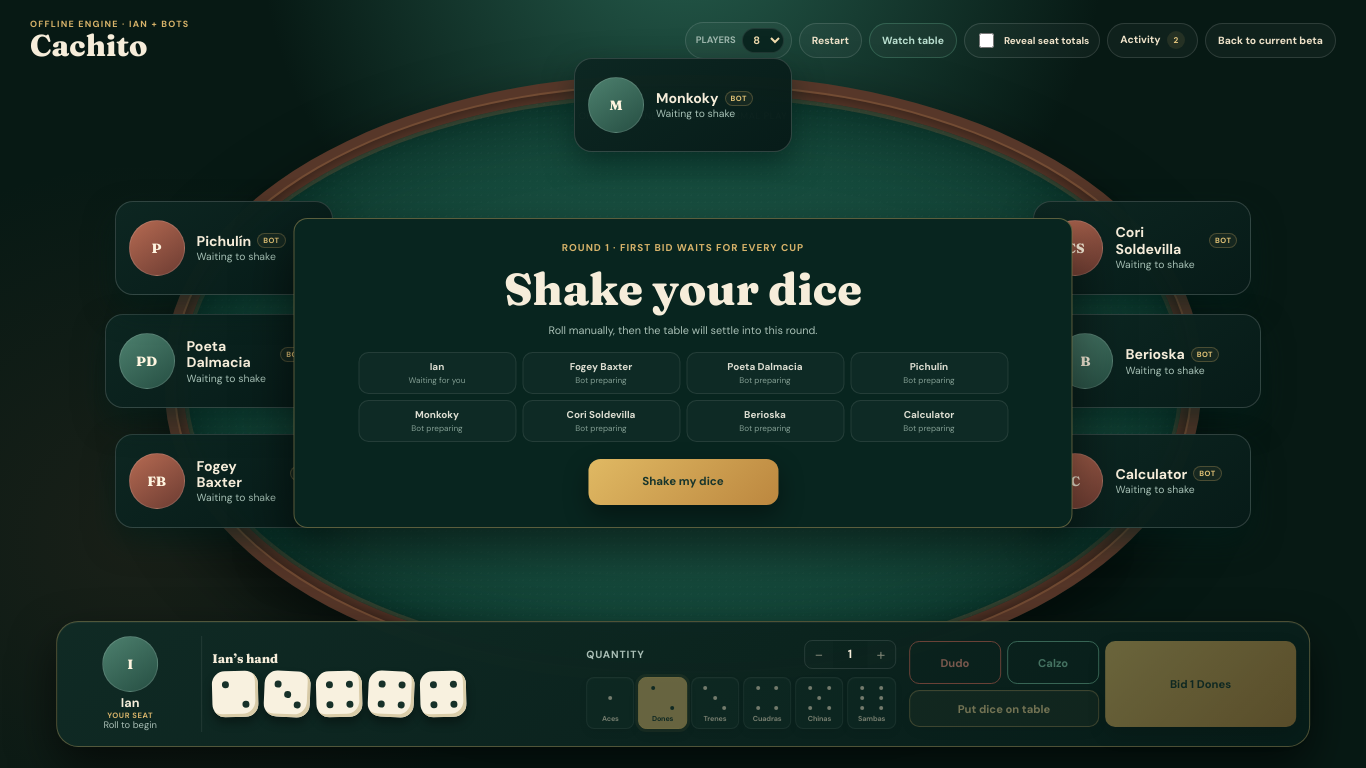
Scenario: TablePrototype › uses the saved username, established bot names, and full player-card information
expect the text "Ian" below "’s hand" is shown: met, box left=121, top=694, right=139, bottom=711
expect the element named "40 dice in play; no dice lost" is shown: met, box left=363, top=318, right=609, bottom=428
Click the checkbox labelled "Reveal seat totals" at (986, 40), box left=979, top=32, right=994, bottom=48
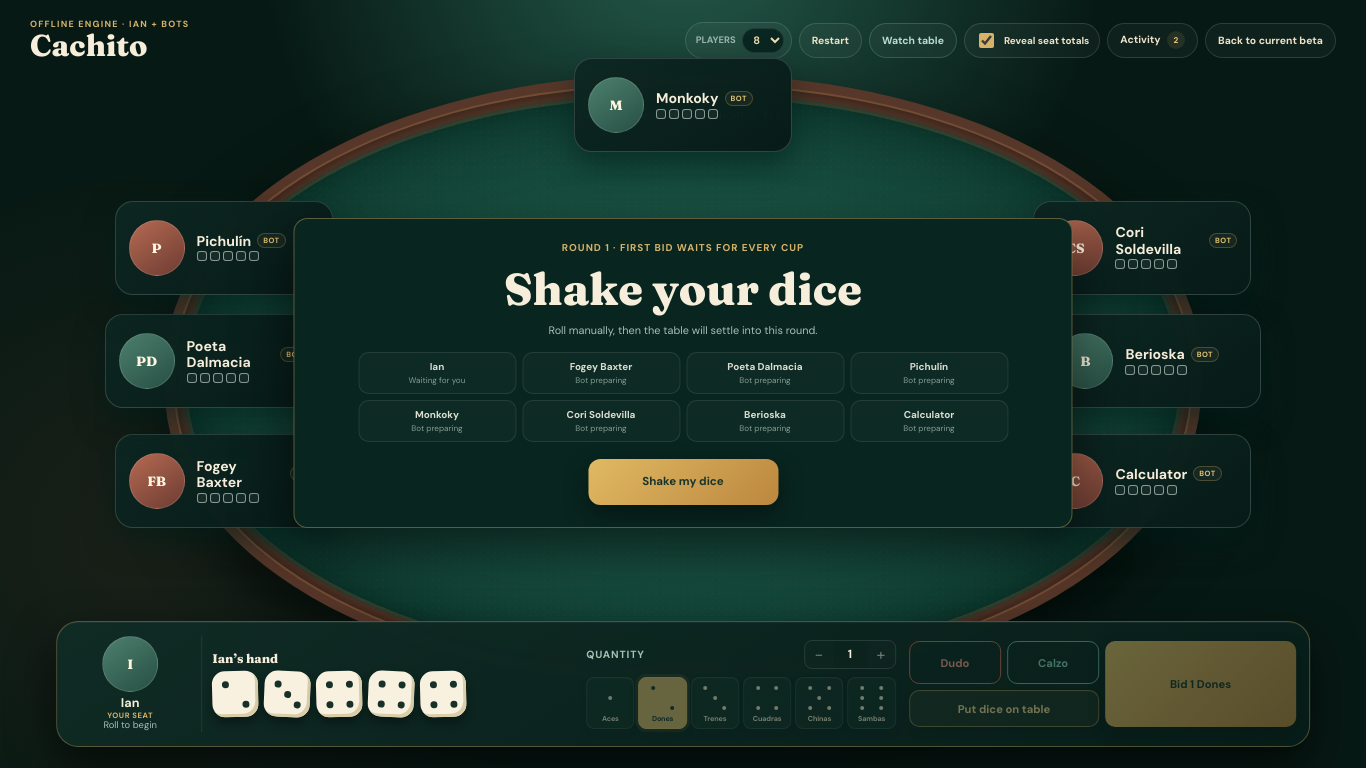
expect the number of elements named "5 dice" is 7: met
